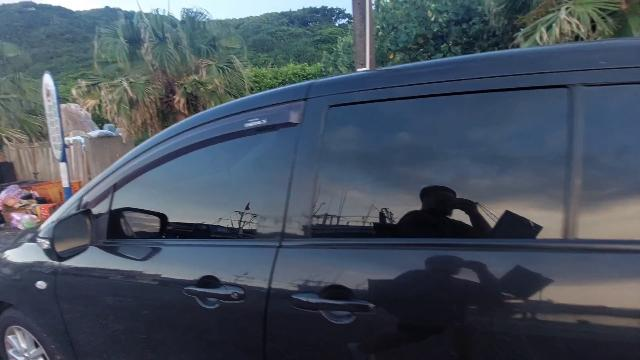pollute: (1, 180, 64, 230)
